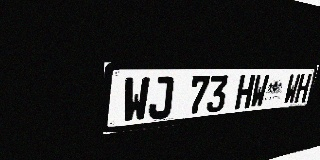3: (206, 75, 229, 113)
7: (186, 75, 211, 116)
H: (234, 75, 255, 110), (294, 74, 312, 103)
J: (148, 76, 174, 120)
W: (122, 77, 150, 123), (249, 74, 270, 108), (283, 74, 301, 104)
